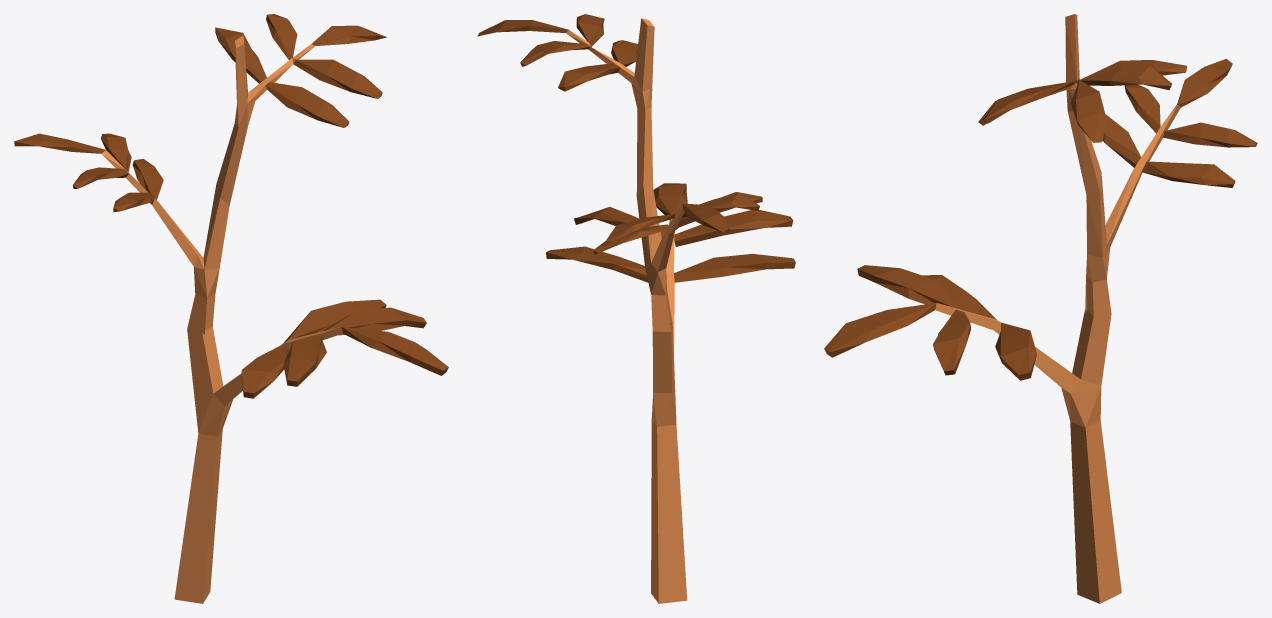
The model's file is Pootato_Dead_S.fbx.
3 views of the same model, side by side, from view 1: azimuth 30°, elevation 25°; view 2: azimuth 150°, elevation 25°; view 3: azimuth 270°, elevation 25° (orthographic). The views are drawn at different scales.
Visible parts, largest first — view 1: Pootato_Dead_S; view 2: Pootato_Dead_S; view 3: Pootato_Dead_S.
Part boxes in pixels (x1,y1,x2,y2): Pootato_Dead_S: [14, 14, 448, 603]; Pootato_Dead_S: [477, 14, 795, 603]; Pootato_Dead_S: [824, 14, 1257, 603].
Bounding box in the file's own units: 11.15 × 19.16 × 12.53.
